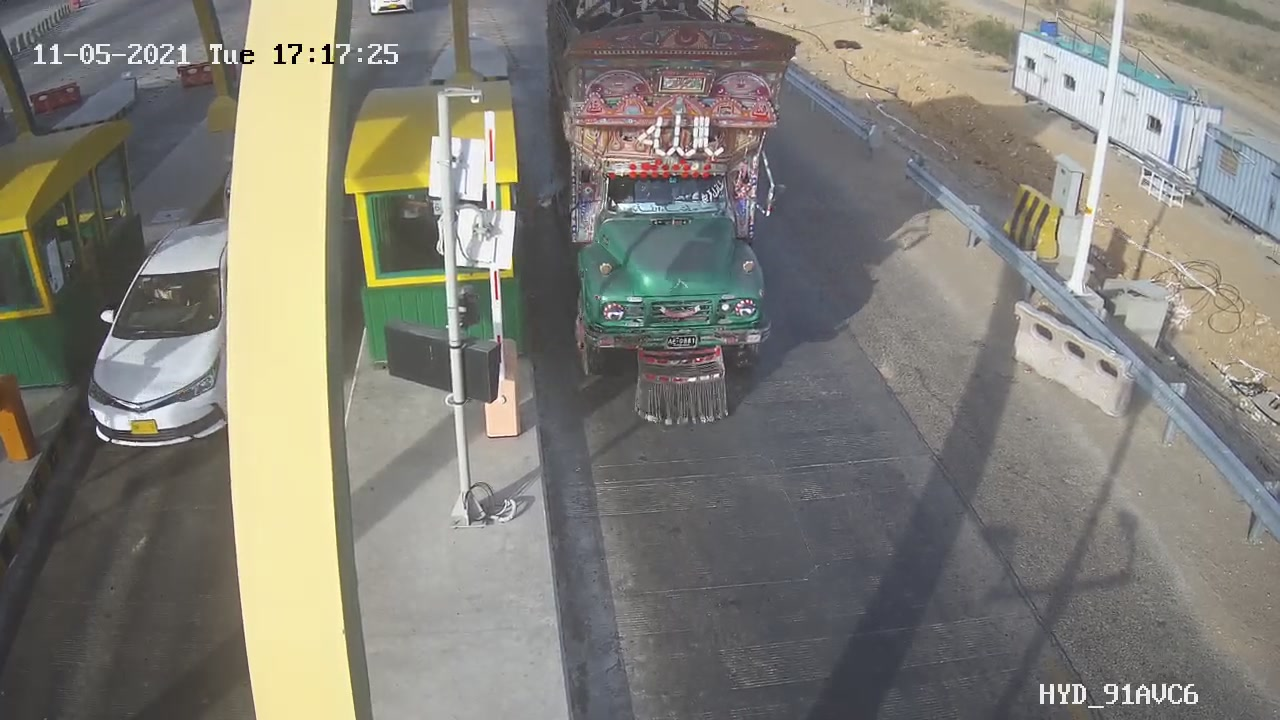F5: (526, 1, 822, 442)
